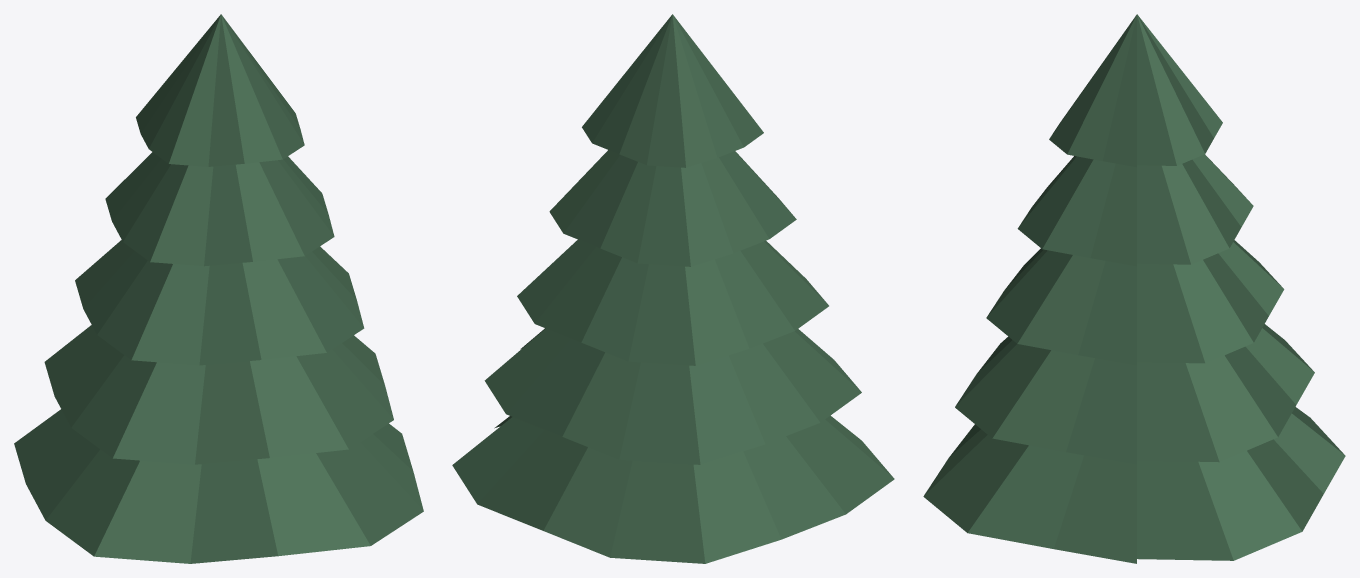
The model's file is tree_spruce_a.gltf.
3 views of the same model, side by side, from view 1: azimuth 30°, elevation 25°; view 2: azimuth 150°, elevation 25°; view 3: azimuth 270°, elevation 25° (orthographic).
Visible parts, largest first — view 1: Spruce A; view 2: Spruce A; view 3: Spruce A.
Part boxes in pixels (x1,y1,x2,y2): Spruce A: [14, 14, 423, 563]; Spruce A: [452, 14, 894, 563]; Spruce A: [923, 14, 1345, 563].
Size of the model in its own units: 4.83 by 6 by 4.97.
